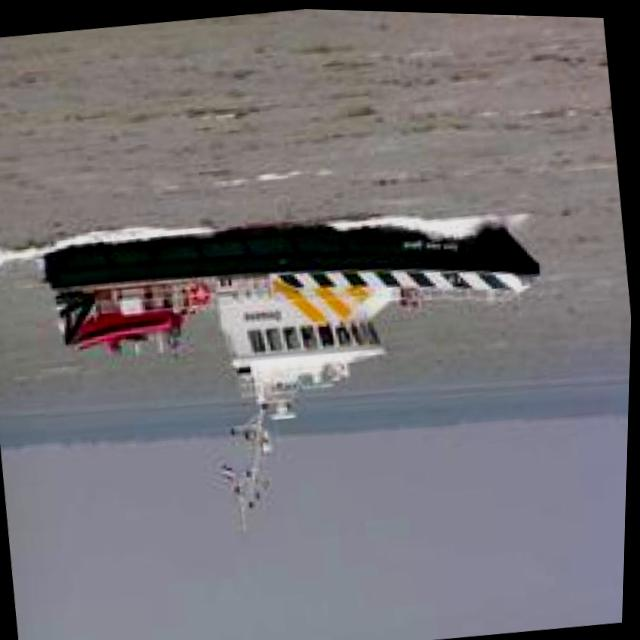ship2: (44, 217, 543, 531)
